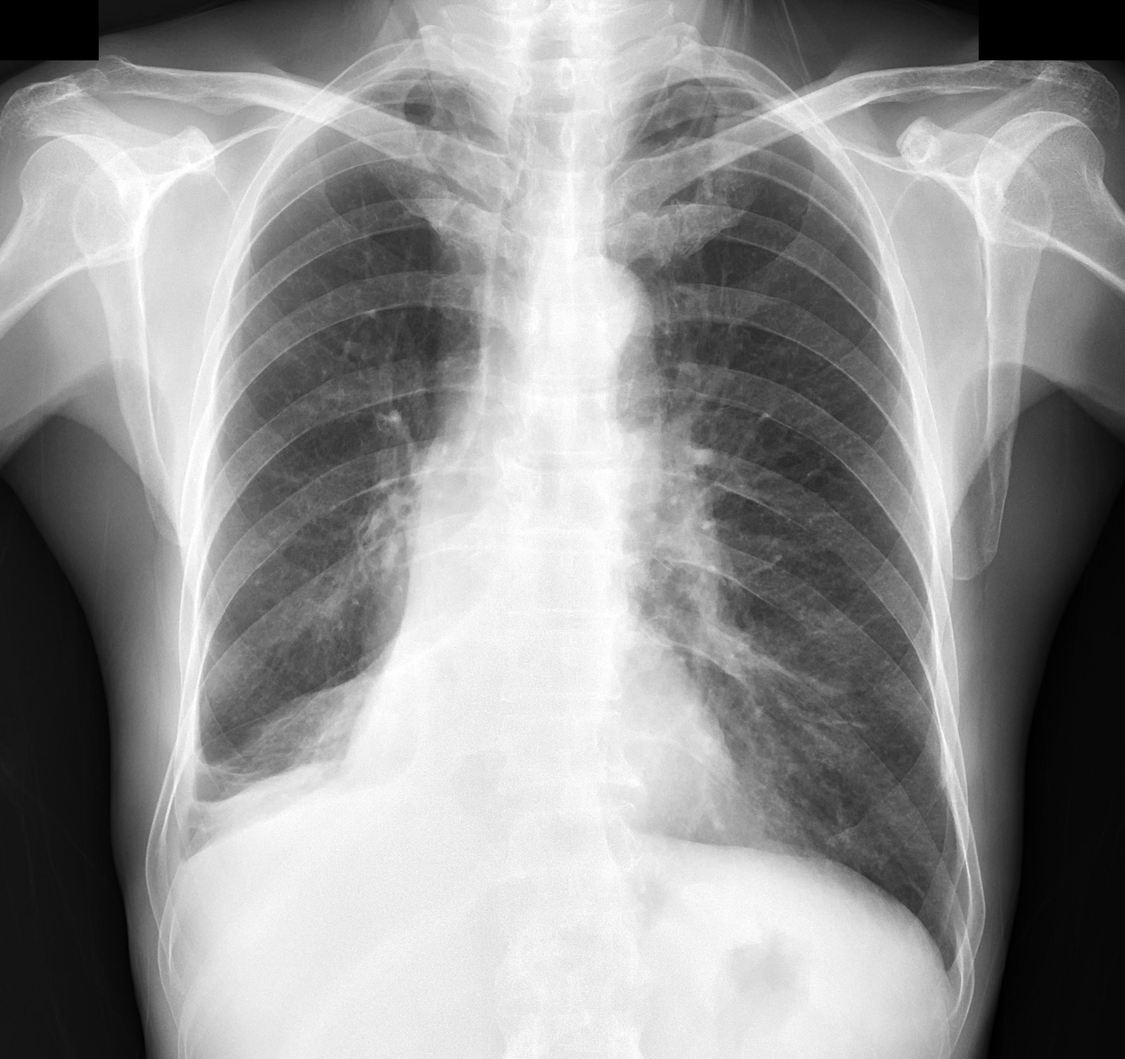Aortic enlargement: (530, 253, 655, 367)
Pleural thickening: (171, 636, 406, 844), (347, 63, 478, 97), (153, 829, 196, 894), (941, 945, 968, 996)
Pulmonary fibrosis: (778, 693, 868, 753)
